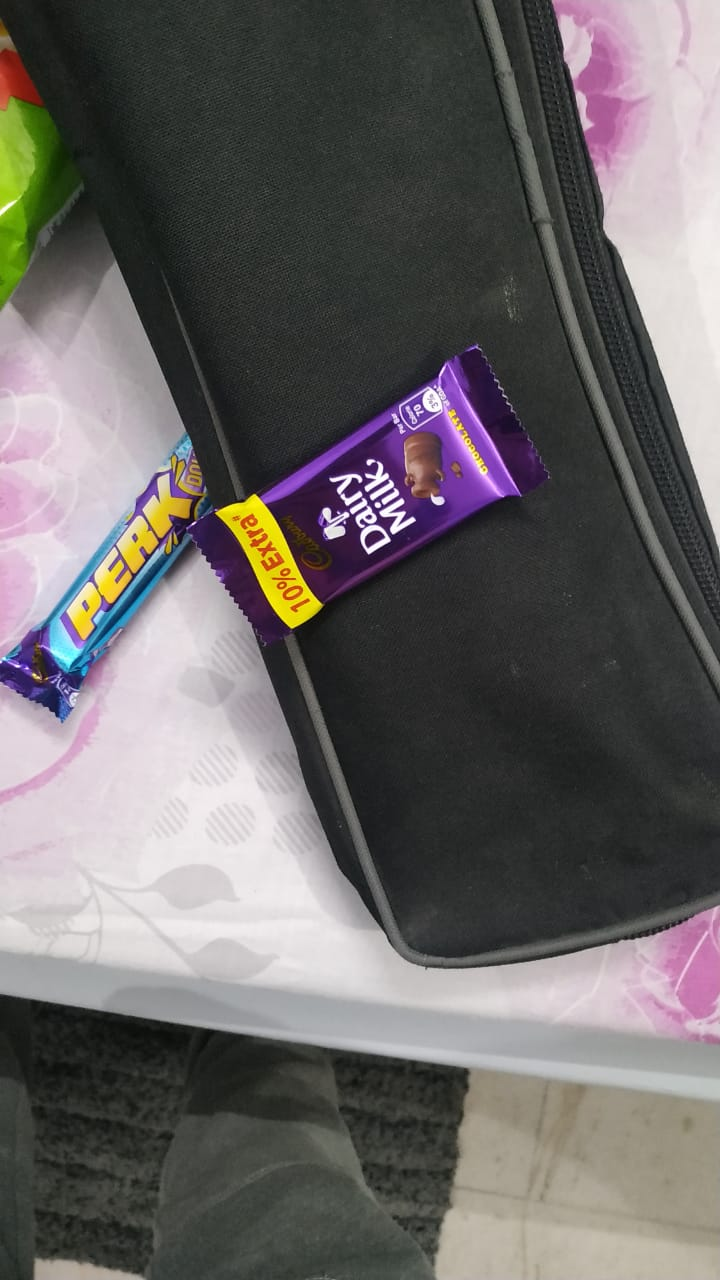dairy milk: (186, 351, 556, 643)
perk: (3, 435, 209, 747)
